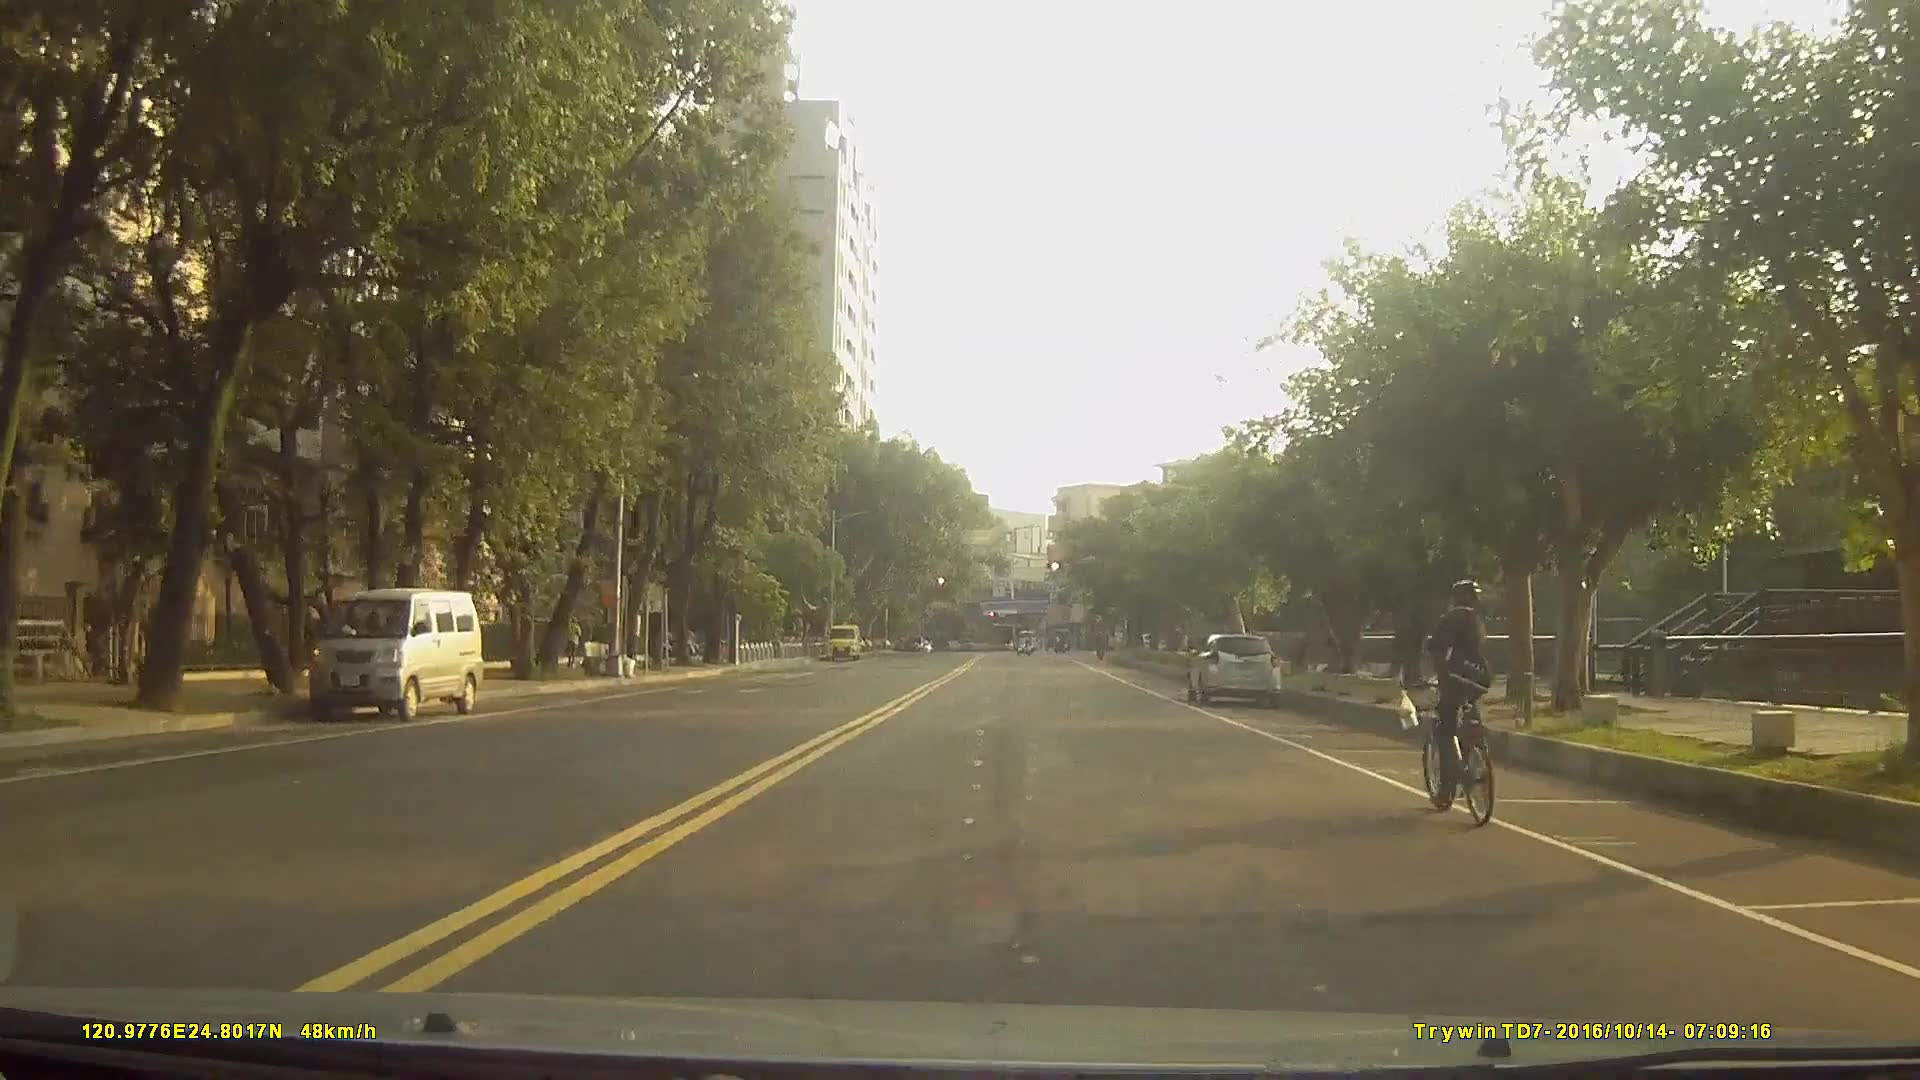rider: (1415, 580, 1503, 827)
vehicle: (305, 586, 486, 725), (1187, 630, 1283, 707), (1012, 628, 1038, 653)
